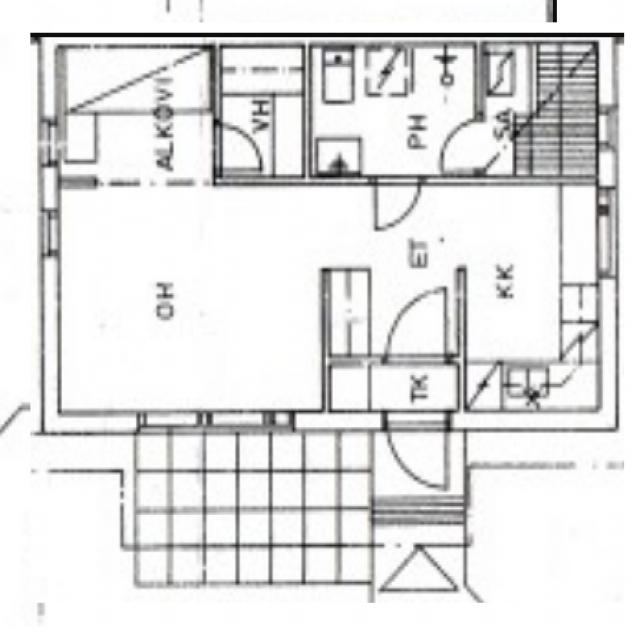door: (452, 261, 556, 360), (2, 2, 2, 2), (2, 1, 2, 2)
